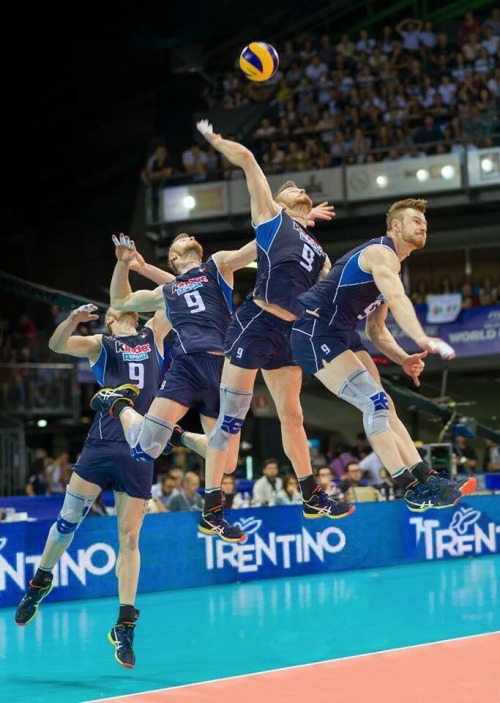volleyball: (238, 40, 283, 85)
